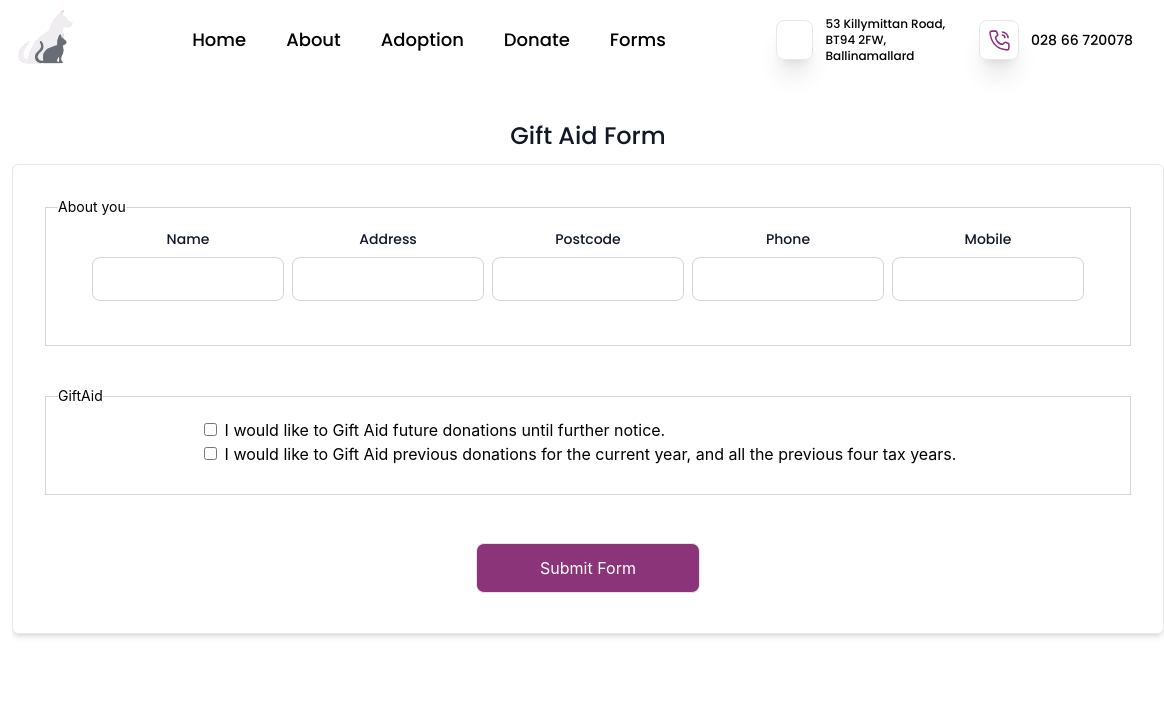
Test case: GiftAid Form › should allow form submit the form when all inputs are entered
In the field labelled "Name": (188, 279) [92,257,284,301], type "hi"
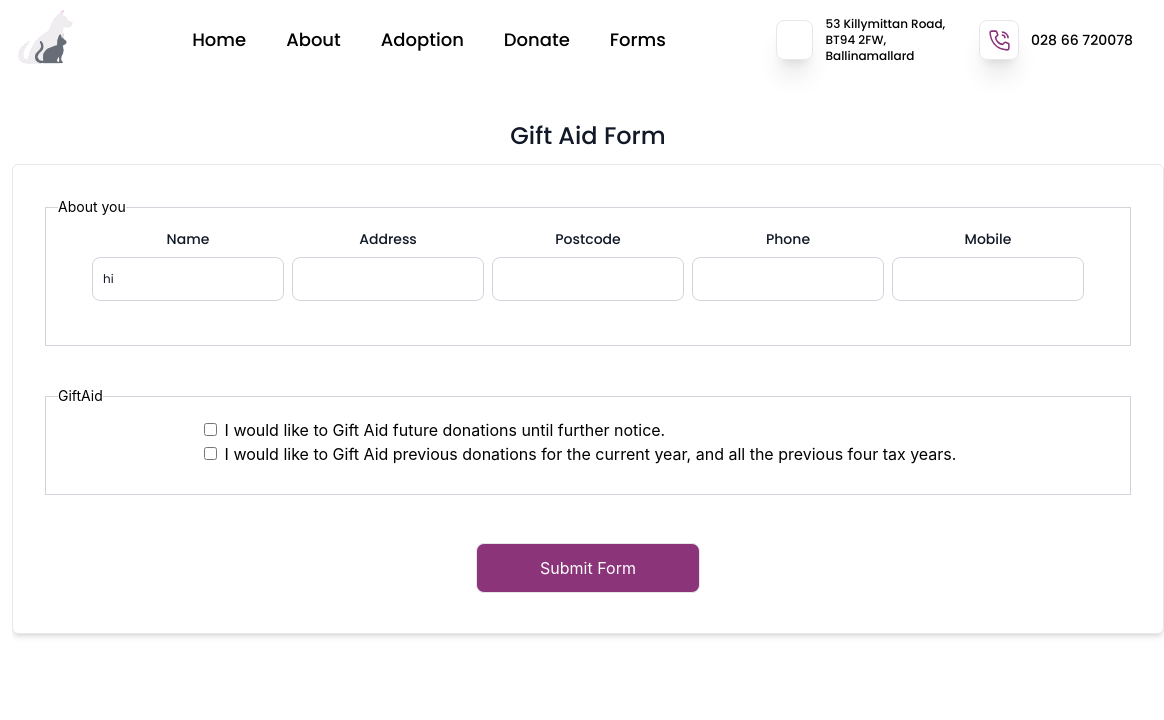
In the field labelled "Address": (388, 279) [292,257,484,301], type "hi"
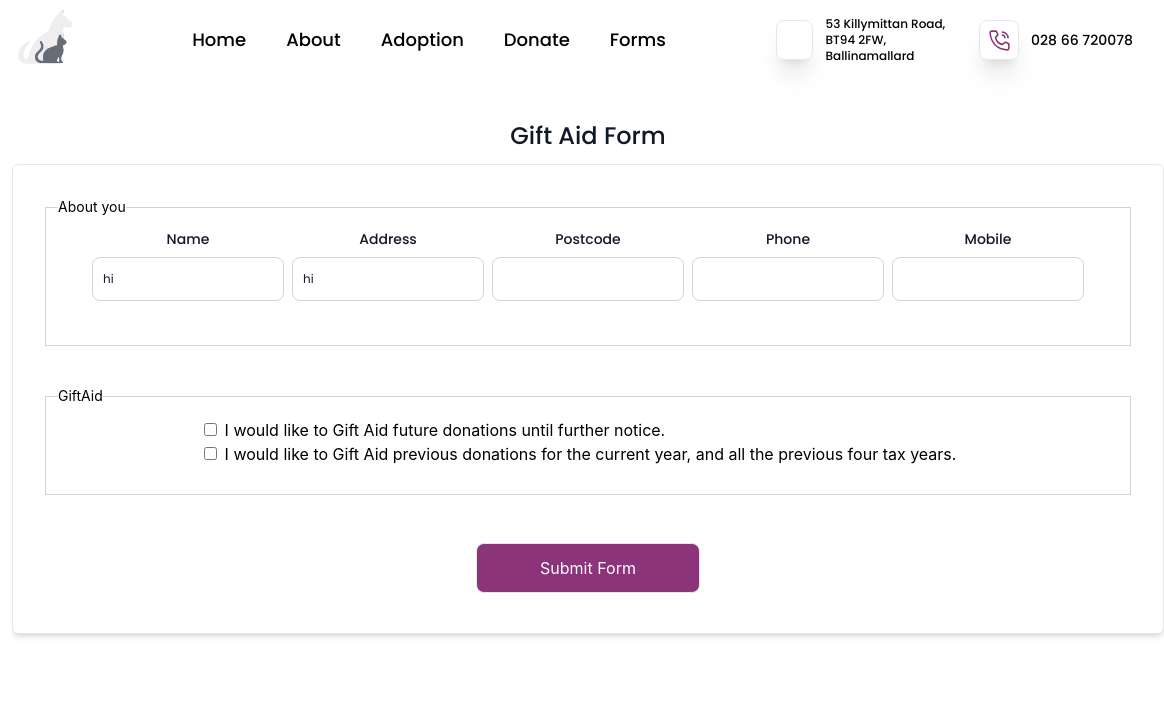
In the field labelled "Postcode": (588, 279) [492,257,684,301], type "hi"
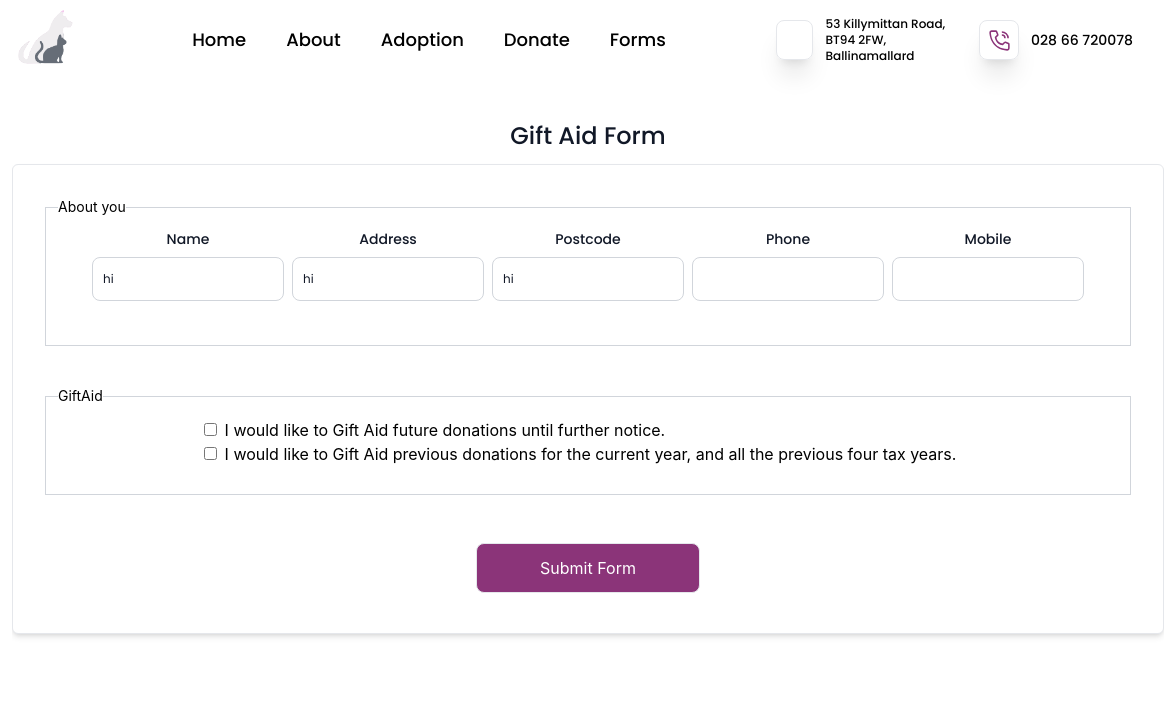
In the field labelled "Phone": (788, 279) [692,257,884,301], type "hi"
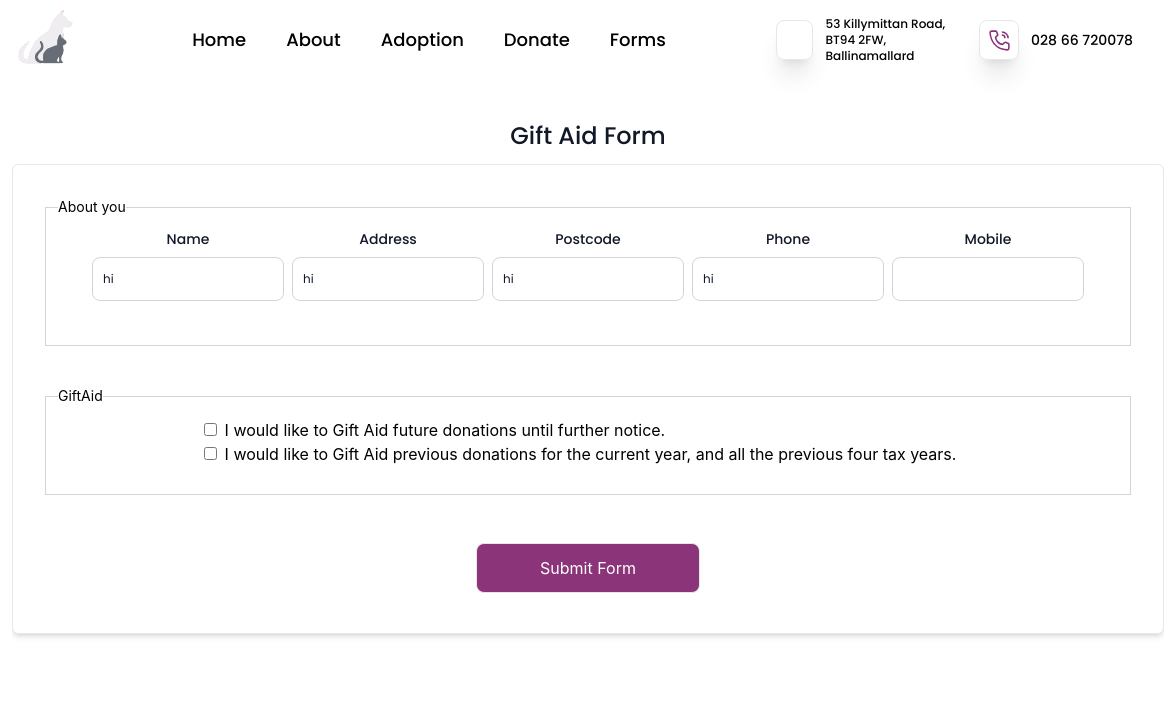
In the field labelled "Mobile": (988, 279) [892,257,1084,301], type "hi"
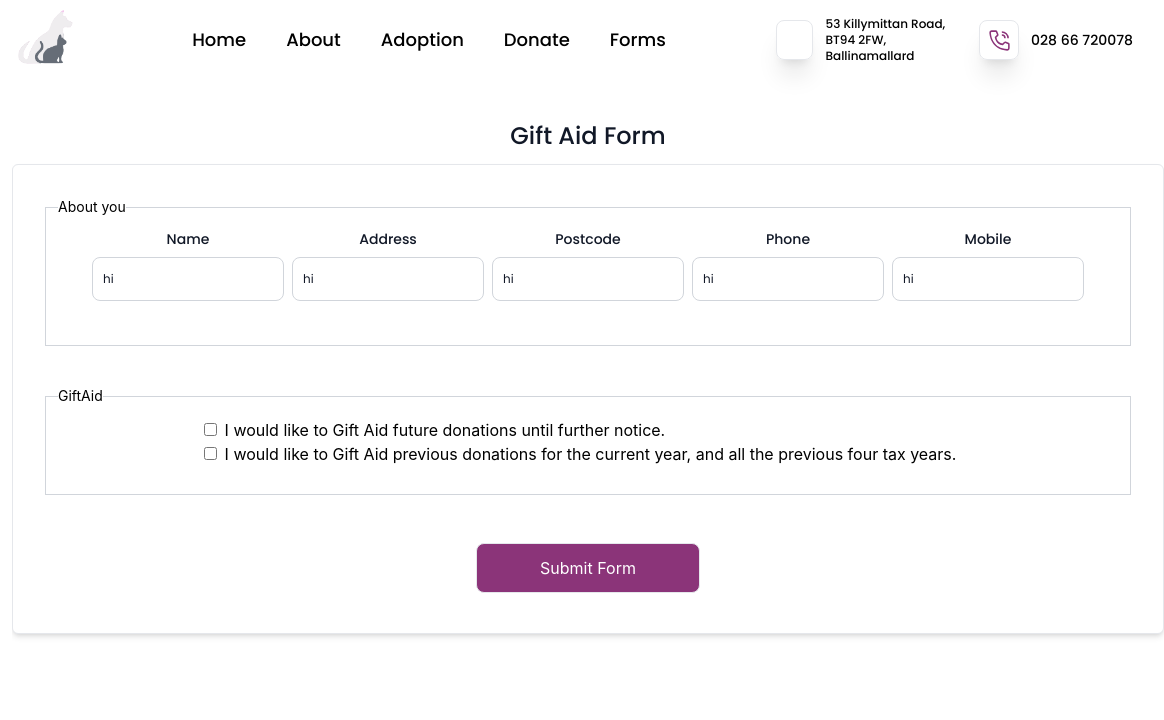
Click the submit button: (588, 568) [476,543,700,593]
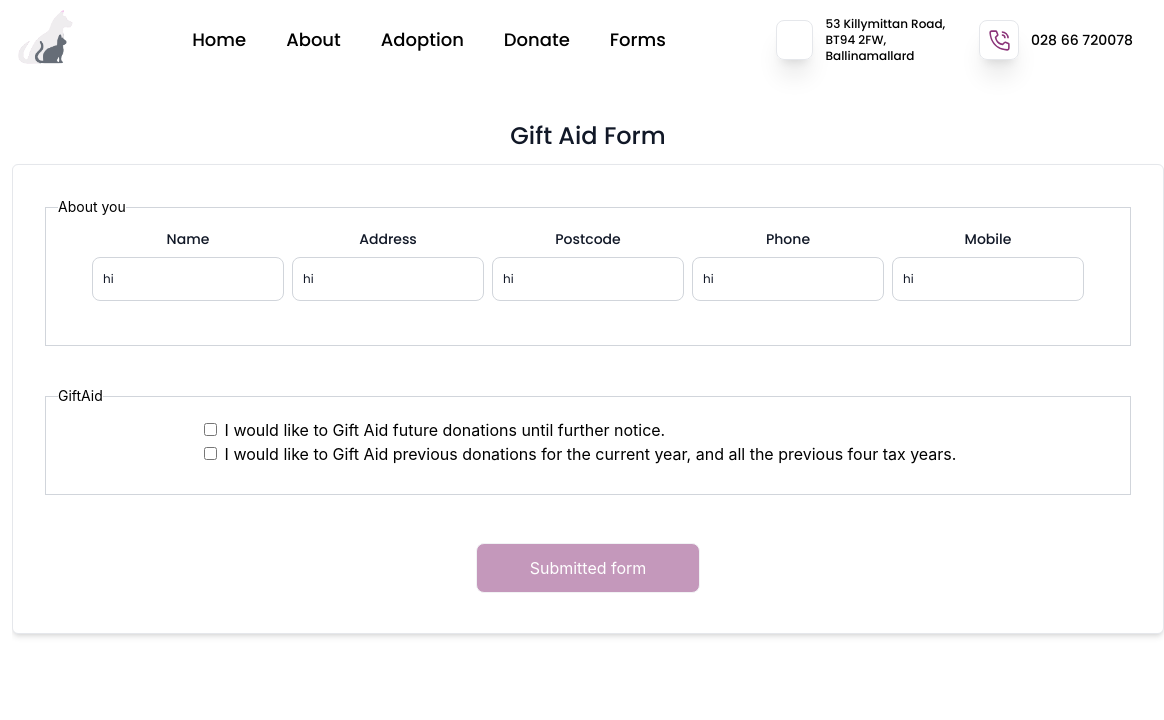
Check: the button "Submitted form" is shown, box [476,543,700,593]
